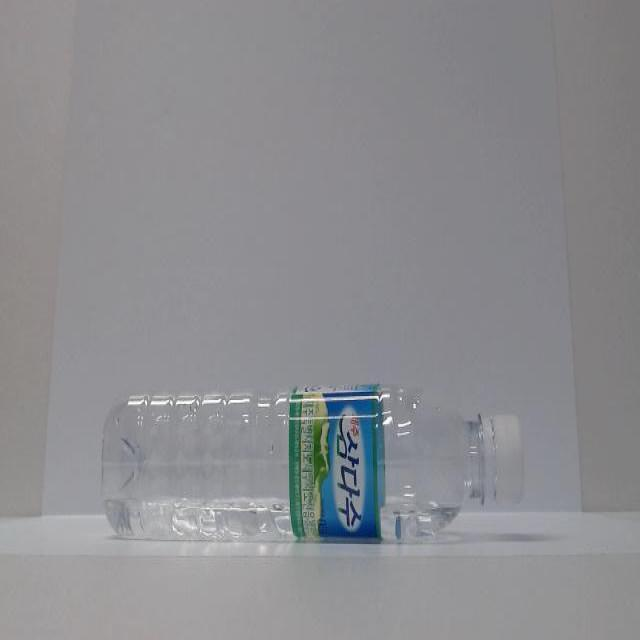bottle: (98, 377, 546, 555)
